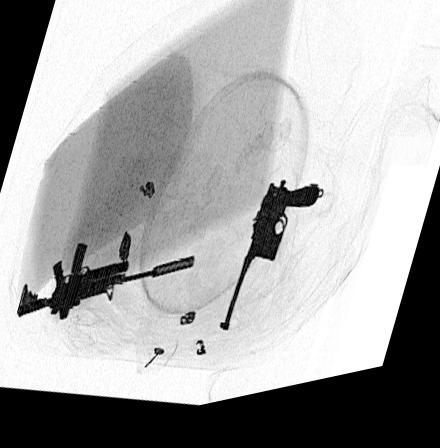Gun: (217, 191, 320, 342), (14, 244, 192, 322)
